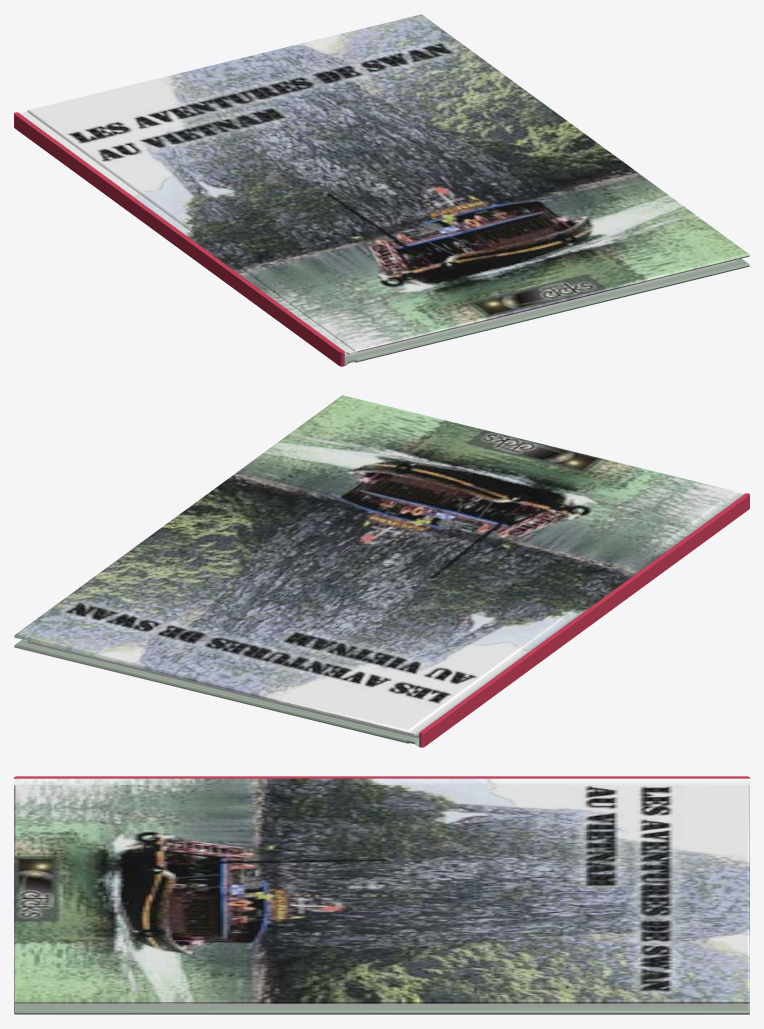
Rendered from book6.glb.
3 renders of one model, top to bottom at view 1: azimuth 30°, elevation 25°; view 2: azimuth 150°, elevation 25°; view 3: azimuth 270°, elevation 25°, orthographic. The views are drawn at different scales.
Parts seen in each view (by area): view 1: Object_3, Object_5, Object_4, Object_2; view 2: Object_3, Object_5, Object_4, Object_2; view 3: Object_3, Object_4, Object_2, Object_5.
Part boxes in pixels (bbox=[...]): Object_3: bbox=[18, 14, 749, 355]; Object_5: bbox=[14, 112, 344, 366]; Object_4: bbox=[344, 258, 749, 365]; Object_2: bbox=[344, 260, 736, 357]; Object_3: bbox=[14, 395, 745, 736]; Object_5: bbox=[419, 493, 749, 747]; Object_4: bbox=[14, 639, 419, 746]; Object_2: bbox=[27, 641, 419, 738]; Object_3: bbox=[14, 778, 749, 1003]; Object_4: bbox=[14, 1003, 749, 1014]; Object_2: bbox=[25, 1003, 738, 1006]; Object_5: bbox=[14, 776, 749, 778].
Size of the model in its own units: 21.44 by 0.7034 by 29.8.
Materials: 4 (1 with a texture image).
